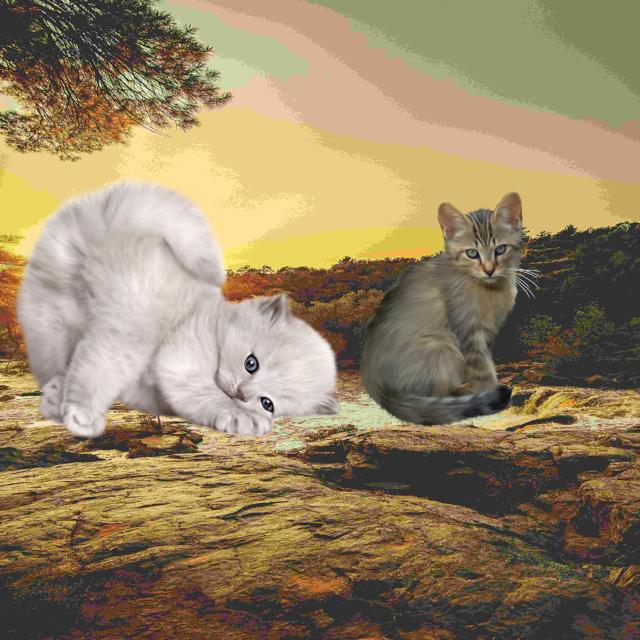cat: (11, 179, 342, 440), (356, 191, 539, 428)
